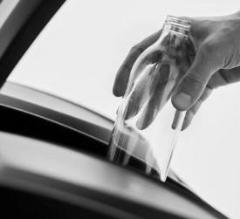glass: (104, 15, 194, 184)
